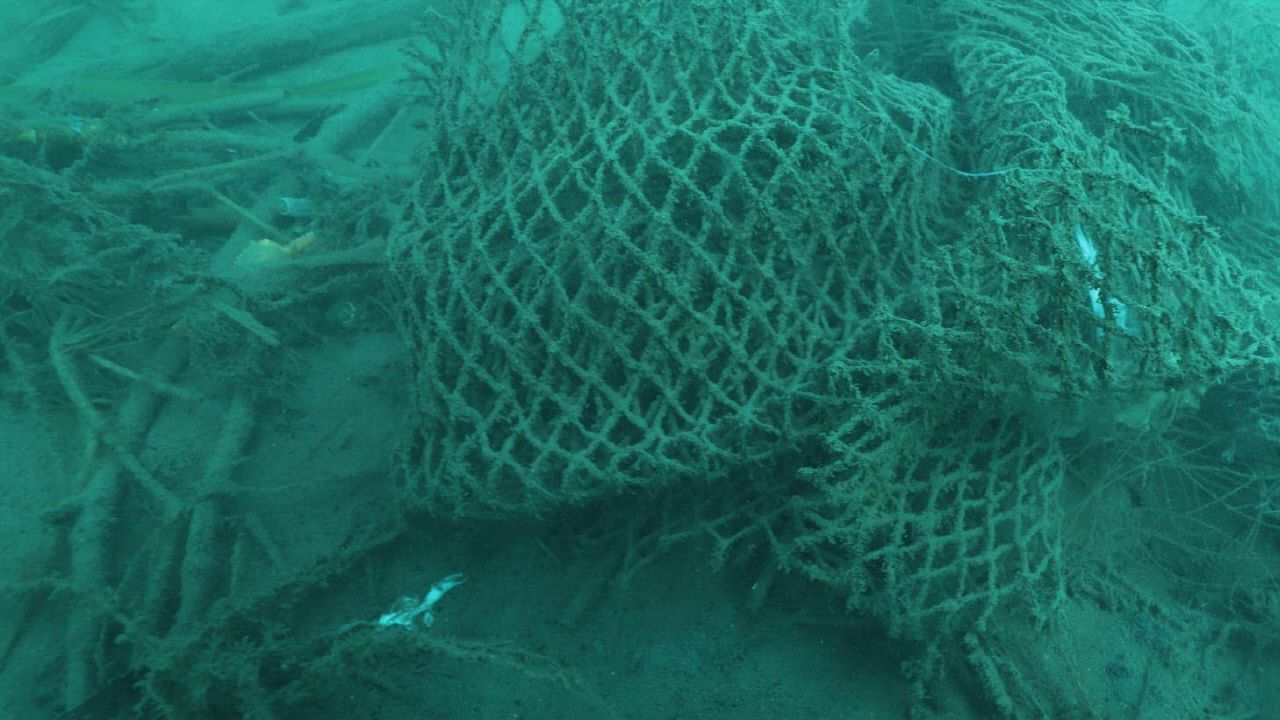fish net: (380, 0, 1280, 622)
